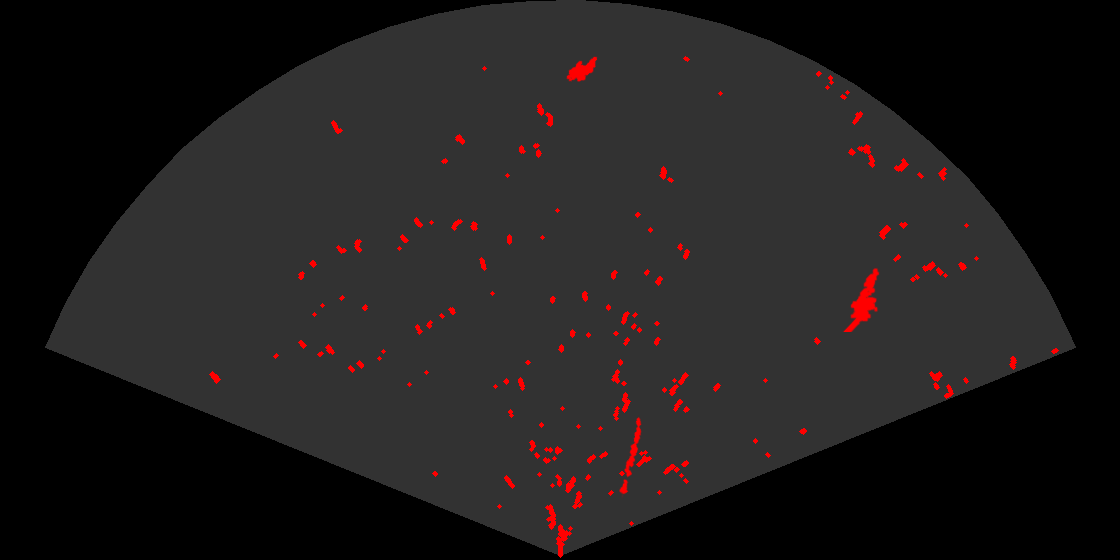AUV: (565, 55, 599, 83)
chain: (618, 415, 643, 499)
frogman: (841, 266, 881, 332)
